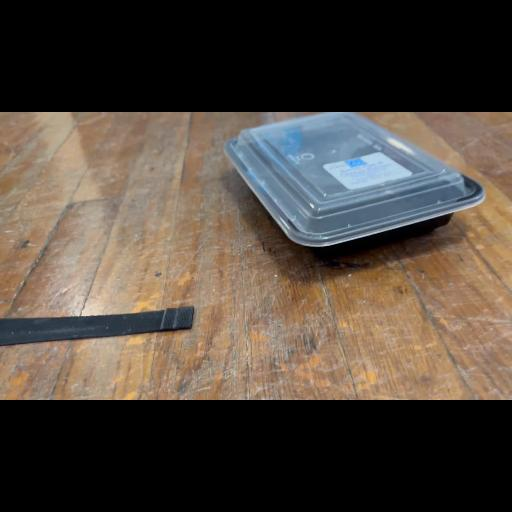rigid_plastic_container: (222, 114, 492, 266)
